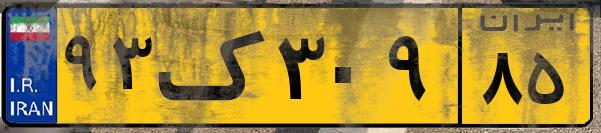0: (330, 28, 385, 110)
3: (270, 28, 330, 110), (110, 28, 158, 98)
5: (525, 38, 570, 115)
8: (475, 38, 525, 113)
9: (385, 28, 445, 110), (57, 26, 110, 100)
ک: (158, 12, 270, 120)
